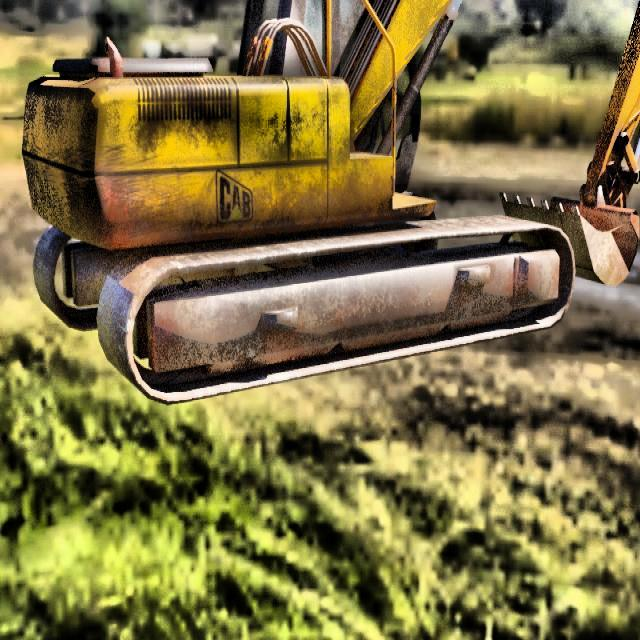excavator: (21, 0, 640, 406)
